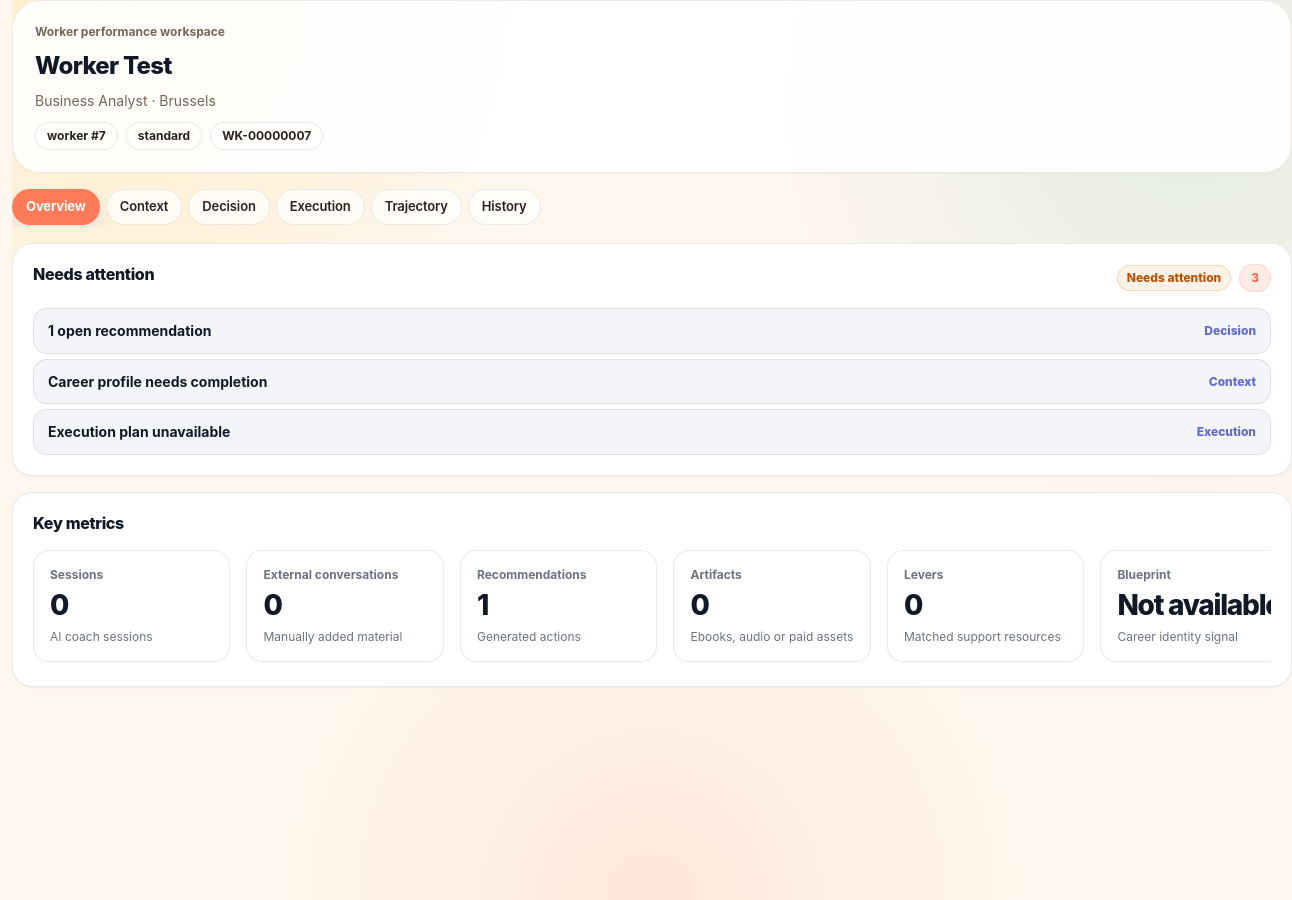
OrganizationInsightsTab recommendation completion › removes the completion action after successful completion
Click the tab "Decision": (229, 207) [188,189,270,225]
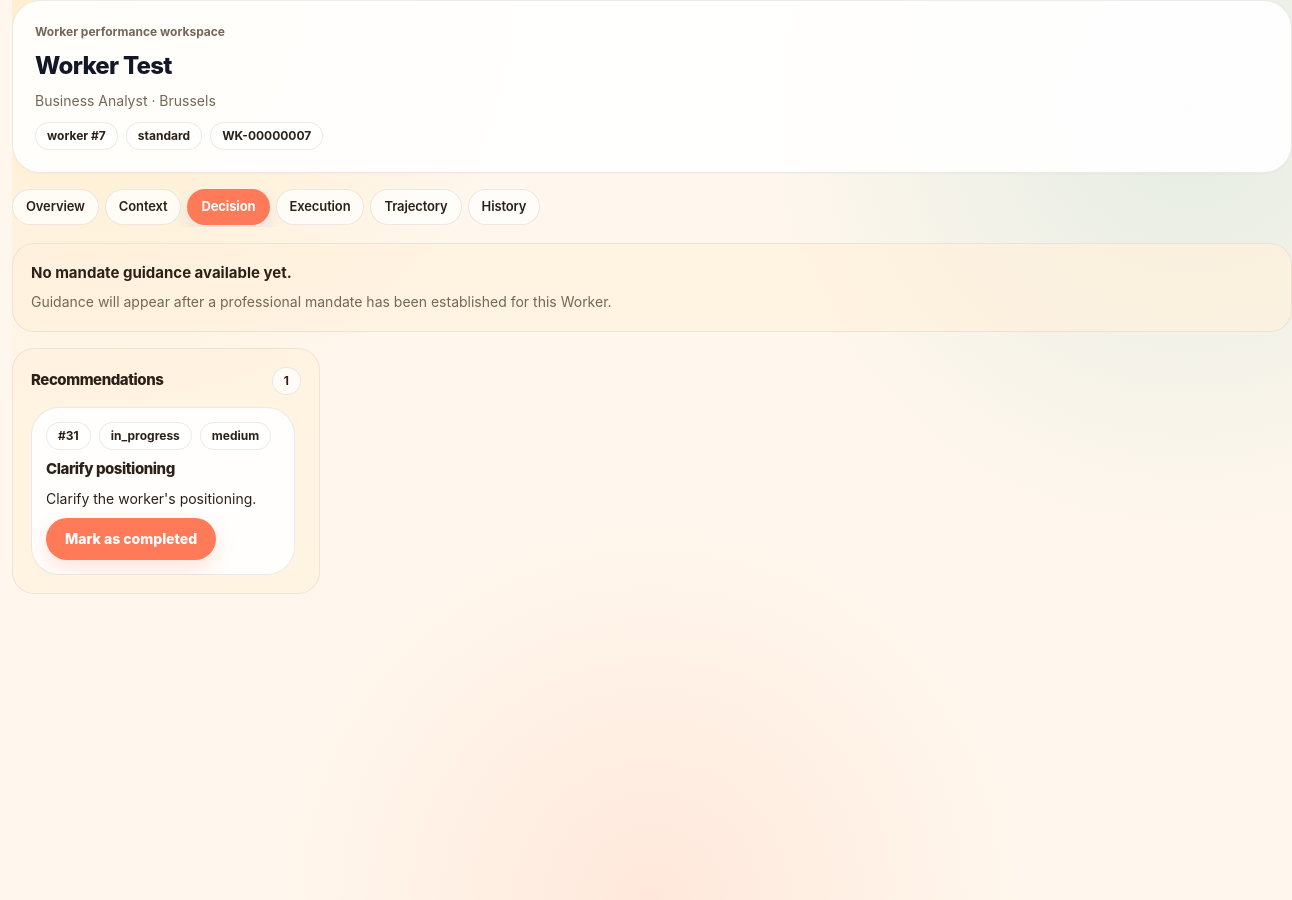
Click the button "Mark as completed": (131, 539) [46,518,216,560]
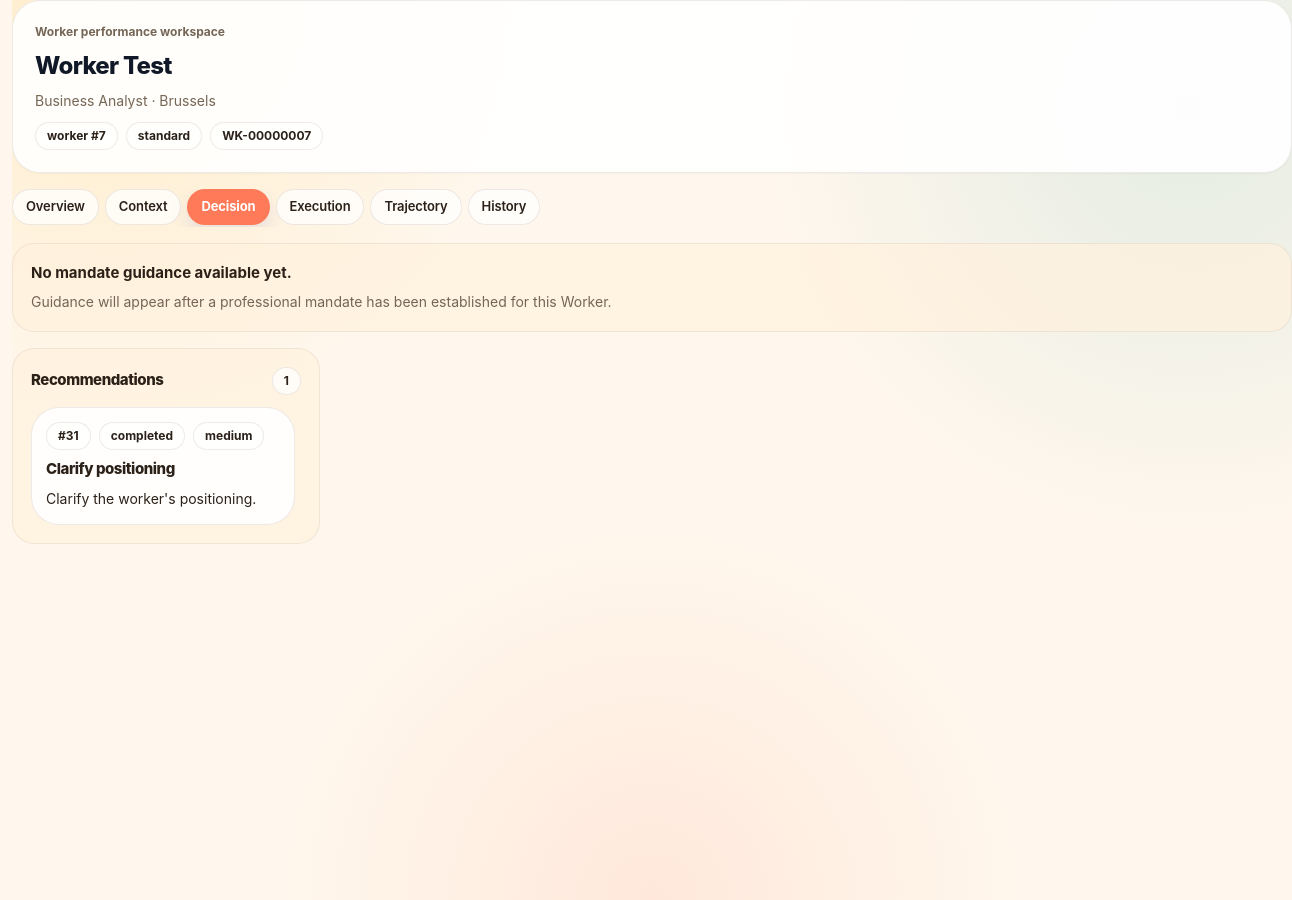
Expected: the button "Mark as completed" is gone
Expected: the text "completed" is shown, [99,422,185,450]
